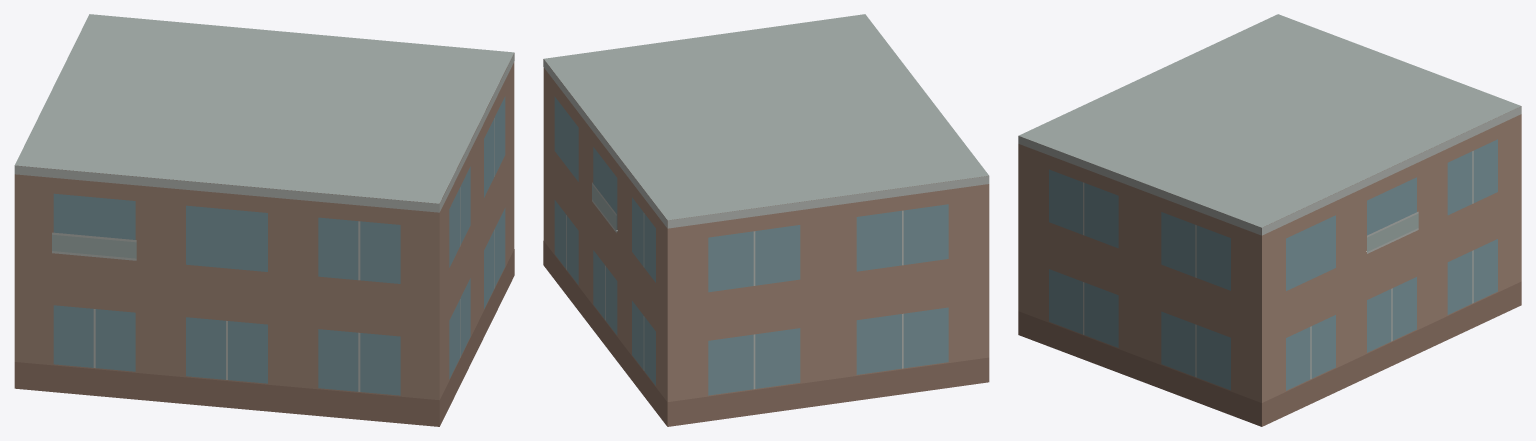
Rendered from survey-upis-32712528.glb.
3 renders of one model, left to right at view 1: azimuth 30°, elevation 25°; view 2: azimuth 150°, elevation 25°; view 3: azimuth 270°, elevation 25°, orthographic. The views are drawn at different scales.
Visible parts, largest first — view 1: survey-upis-32712528.tmp; view 2: survey-upis-32712528.tmp; view 3: survey-upis-32712528.tmp.
Boxes of the visible parts, x1=… form: survey-upis-32712528.tmp: x1=14, y1=14, x2=514, y2=426; survey-upis-32712528.tmp: x1=543, y1=14, x2=989, y2=426; survey-upis-32712528.tmp: x1=1018, y1=14, x2=1521, y2=426.
Size of the model in its own units: 14.05 by 6.1 by 13.98.
